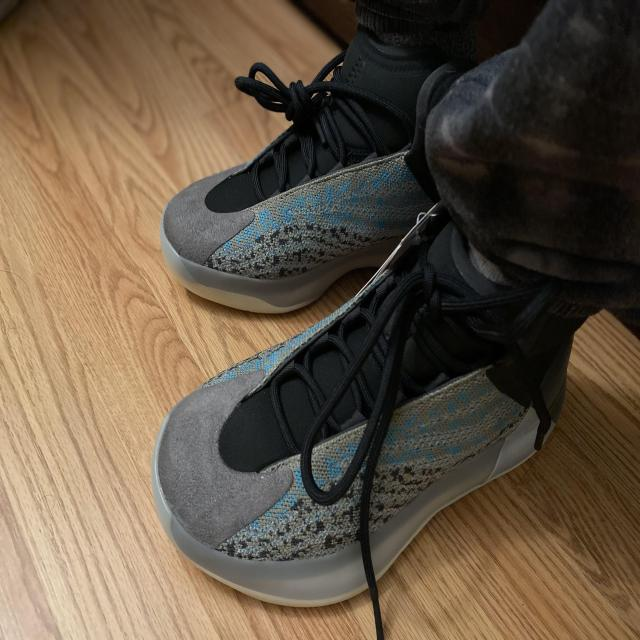shoe: (153, 202, 582, 615), (156, 25, 449, 318)
